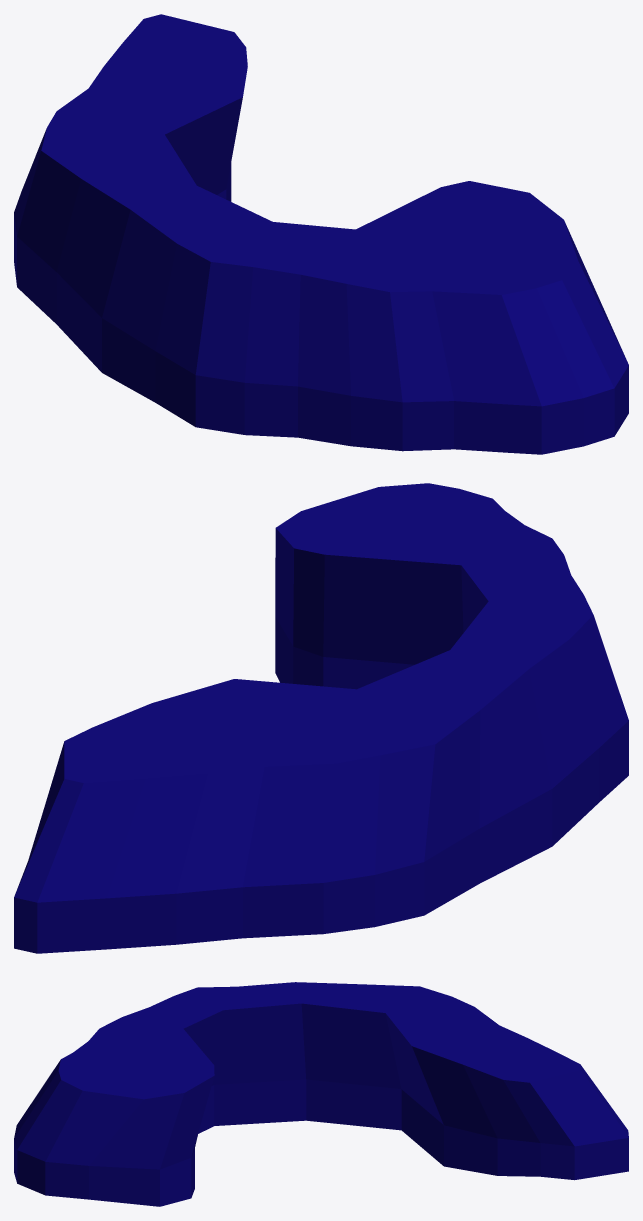
File: BlueObject2.fbx
The picture shows the model from 3 angles, top to bottom: view 1: azimuth 30°, elevation 25°; view 2: azimuth 150°, elevation 25°; view 3: azimuth 270°, elevation 25°; orthographic projection. The views are drawn at different scales.
Visible parts, largest first — view 1: BlueObject2; view 2: BlueObject2; view 3: BlueObject2.
Part boxes in pixels (left/top/right/bottom): BlueObject2: left=14, top=14, right=628, bottom=454; BlueObject2: left=14, top=483, right=628, bottom=953; BlueObject2: left=14, top=982, right=628, bottom=1206.
Size of the model in its own units: 4.49 by 2 by 9.44.
